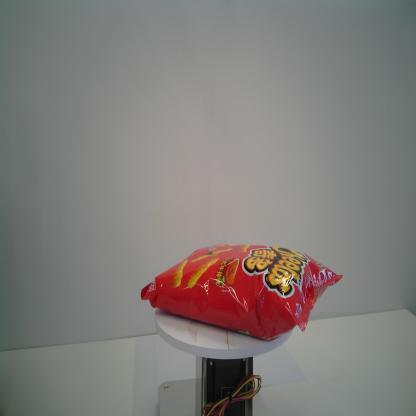Puffed Food: (140, 244, 342, 342)
